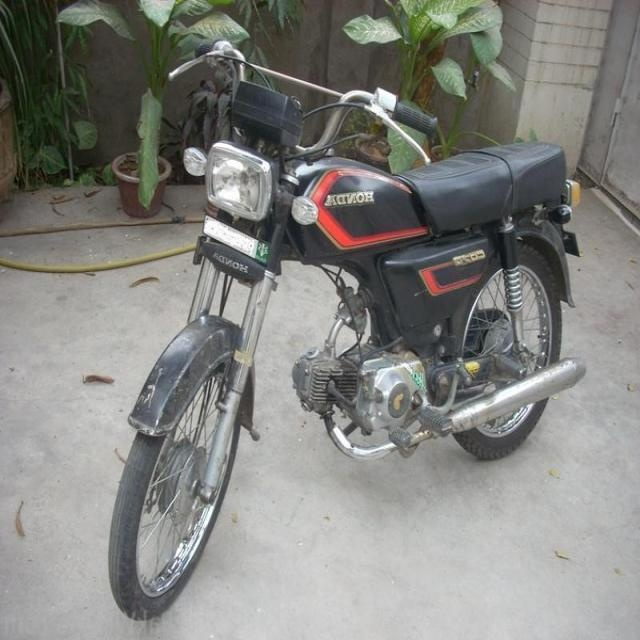motorcycle: (41, 14, 576, 627)
